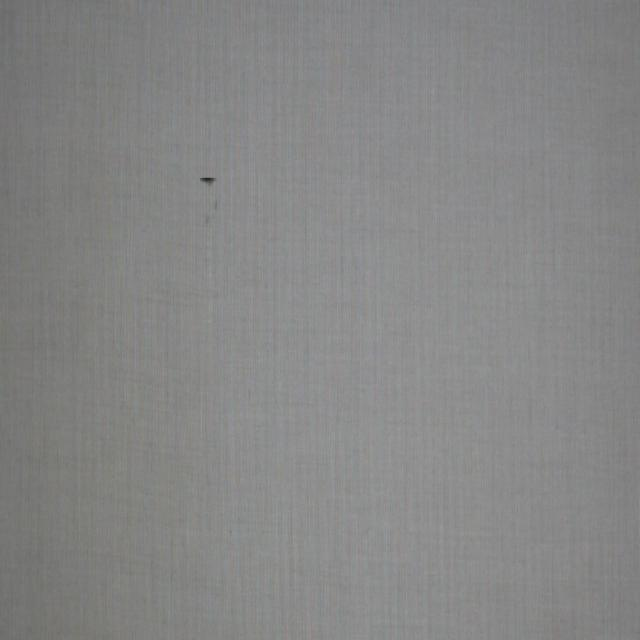dirty: (200, 175, 219, 187)
